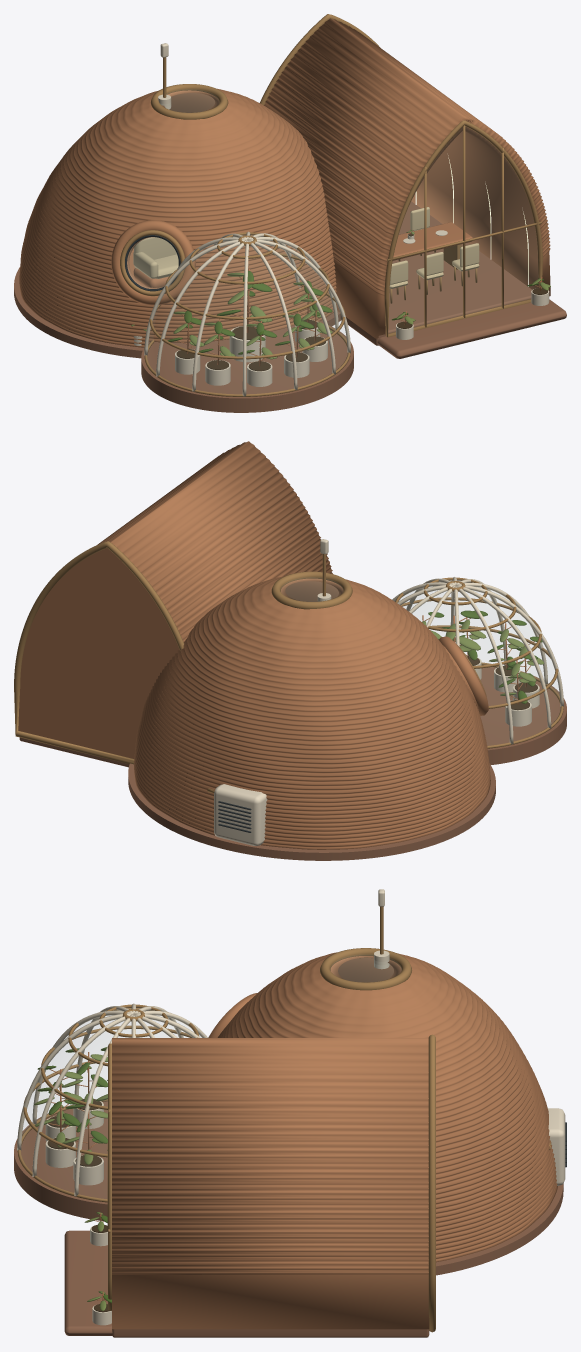
File: 01-mars-commons.glb
3 views of the same model, one above another, from view 1: azimuth 30°, elevation 25°; view 2: azimuth 150°, elevation 25°; view 3: azimuth 270°, elevation 25° (orthographic). The views are drawn at different scales.
Visible parts, largest first — view 1: Shell / Regolith | printed clay, Foundation / Foundation | baked regolith, Frames / Frames | satin bronze, Frames / Equipment | warm ceramic, Glazing / Glazing | transparent blue-grey, Interior / Upholstery | flax, Garden / Equipment | warm ceramic, Interior / Furniture | warm composite, Garden / Garden | sage leaves, Garden / Garden | olive leaves, Garden / Garden | growing medium, Garden / Furniture | warm composite (+1 smaller); view 2: Shell / Regolith | printed clay, Foundation / Foundation | baked regolith, Frames / Frames | satin bronze, Frames / Equipment | warm ceramic, Glazing / Glazing | transparent blue-grey, Equipment / Equipment | warm ceramic, Garden / Garden | sage leaves, Garden / Equipment | warm ceramic, Garden / Garden | olive leaves, Equipment / Seals | graphite; view 3: Shell / Regolith | printed clay, Foundation / Foundation | baked regolith, Frames / Frames | satin bronze, Frames / Equipment | warm ceramic, Glazing / Glazing | transparent blue-grey, Garden / Equipment | warm ceramic, Equipment / Equipment | warm ceramic, Garden / Garden | sage leaves, Garden / Garden | olive leaves, Garden / Garden | growing medium.
Boxes of the visible parts, <box> form: Shell / Regolith | printed clay: <box>19,18,550,347</box>; Foundation / Foundation | baked regolith: <box>14,201,566,412</box>; Frames / Frames | satin bronze: <box>120,14,542,396</box>; Frames / Equipment | warm ceramic: <box>144,231,350,396</box>; Glazing / Glazing | transparent blue-grey: <box>127,93,346,345</box>; Interior / Upholstery | flax: <box>133,207,479,288</box>; Garden / Equipment | warm ceramic: <box>133,235,549,386</box>; Interior / Furniture | warm composite: <box>129,222,472,287</box>; Garden / Garden | sage leaves: <box>131,230,550,359</box>; Garden / Garden | olive leaves: <box>167,230,543,354</box>; Garden / Garden | growing medium: <box>176,233,547,371</box>; Garden / Furniture | warm composite: <box>177,229,542,366</box>; Shell / Regolith | printed clay: <box>18,441,490,849</box>; Foundation / Foundation | baked regolith: <box>19,667,566,860</box>; Frames / Frames | satin bronze: <box>14,541,563,764</box>; Frames / Equipment | warm ceramic: <box>392,577,563,744</box>; Glazing / Glazing | transparent blue-grey: <box>285,581,559,696</box>; Equipment / Equipment | warm ceramic: <box>214,539,331,845</box>; Garden / Garden | sage leaves: <box>422,619,544,695</box>; Garden / Equipment | warm ceramic: <box>474,657,539,726</box>; Garden / Garden | olive leaves: <box>428,610,542,703</box>; Equipment / Seals | graphite: <box>218,801,251,832</box>; Shell / Regolith | printed clay: <box>112,952,557,1329</box>; Foundation / Foundation | baked regolith: <box>14,1101,563,1337</box>; Frames / Frames | satin bronze: <box>17,948,435,1332</box>; Frames / Equipment | warm ceramic: <box>17,1003,207,1196</box>; Glazing / Glazing | transparent blue-grey: <box>22,958,393,1136</box>; Garden / Equipment | warm ceramic: <box>45,1098,111,1325</box>; Equipment / Equipment | warm ceramic: <box>374,889,565,1185</box>; Garden / Garden | sage leaves: <box>34,1054,107,1310</box>; Garden / Garden | olive leaves: <box>37,1047,111,1302</box>; Garden / Garden | growing medium: <box>47,1099,109,1312</box>.
Bounding box in the file's own units: 10.1 × 5.73 × 9.89.
Materials: 12 (1 with a texture image).
